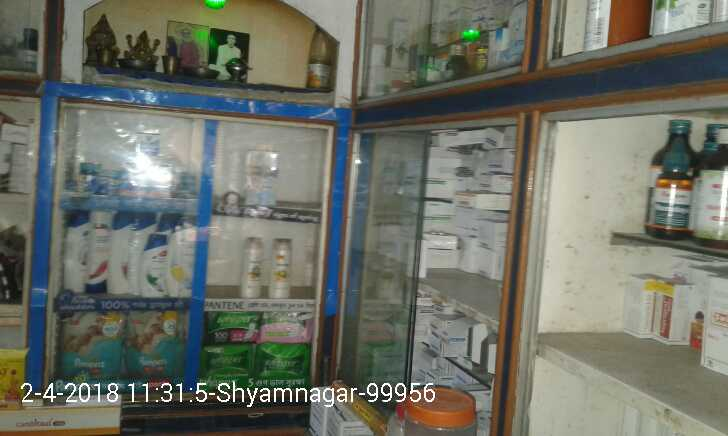vicks: (82, 133, 197, 198)
